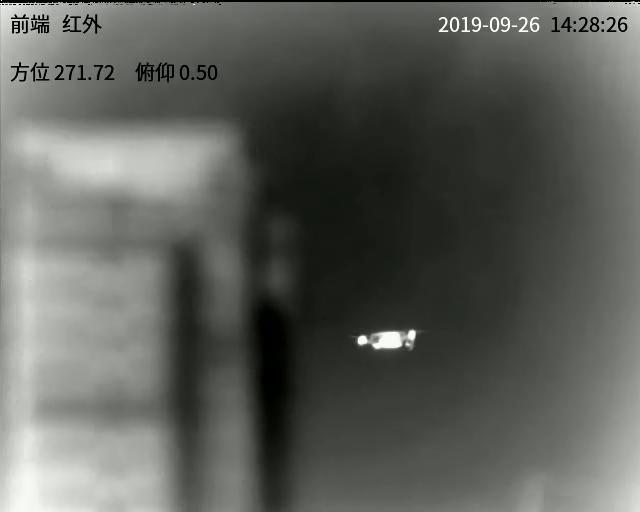uav: (345, 323, 433, 355)
